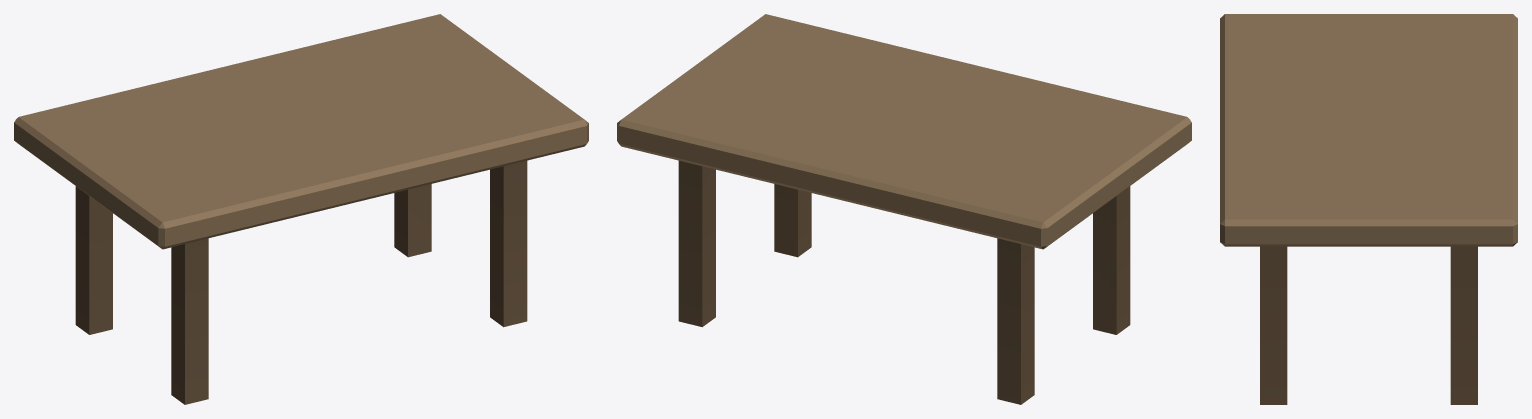
The model's file is worktable.glb.
The picture shows the model from 3 angles, left to right: view 1: azimuth 30°, elevation 25°; view 2: azimuth 150°, elevation 25°; view 3: azimuth 270°, elevation 25°; orthographic projection.
Visible parts, largest first — view 1: worktable.002; view 2: worktable.002; view 3: worktable.002.
Boxes of the visible parts, x1=… form: worktable.002: x1=14, y1=14, x2=588, y2=404; worktable.002: x1=617, y1=14, x2=1191, y2=404; worktable.002: x1=1220, y1=14, x2=1517, y2=404.
Bounding box in the file's own units: 2 × 0.91 × 1.2.
